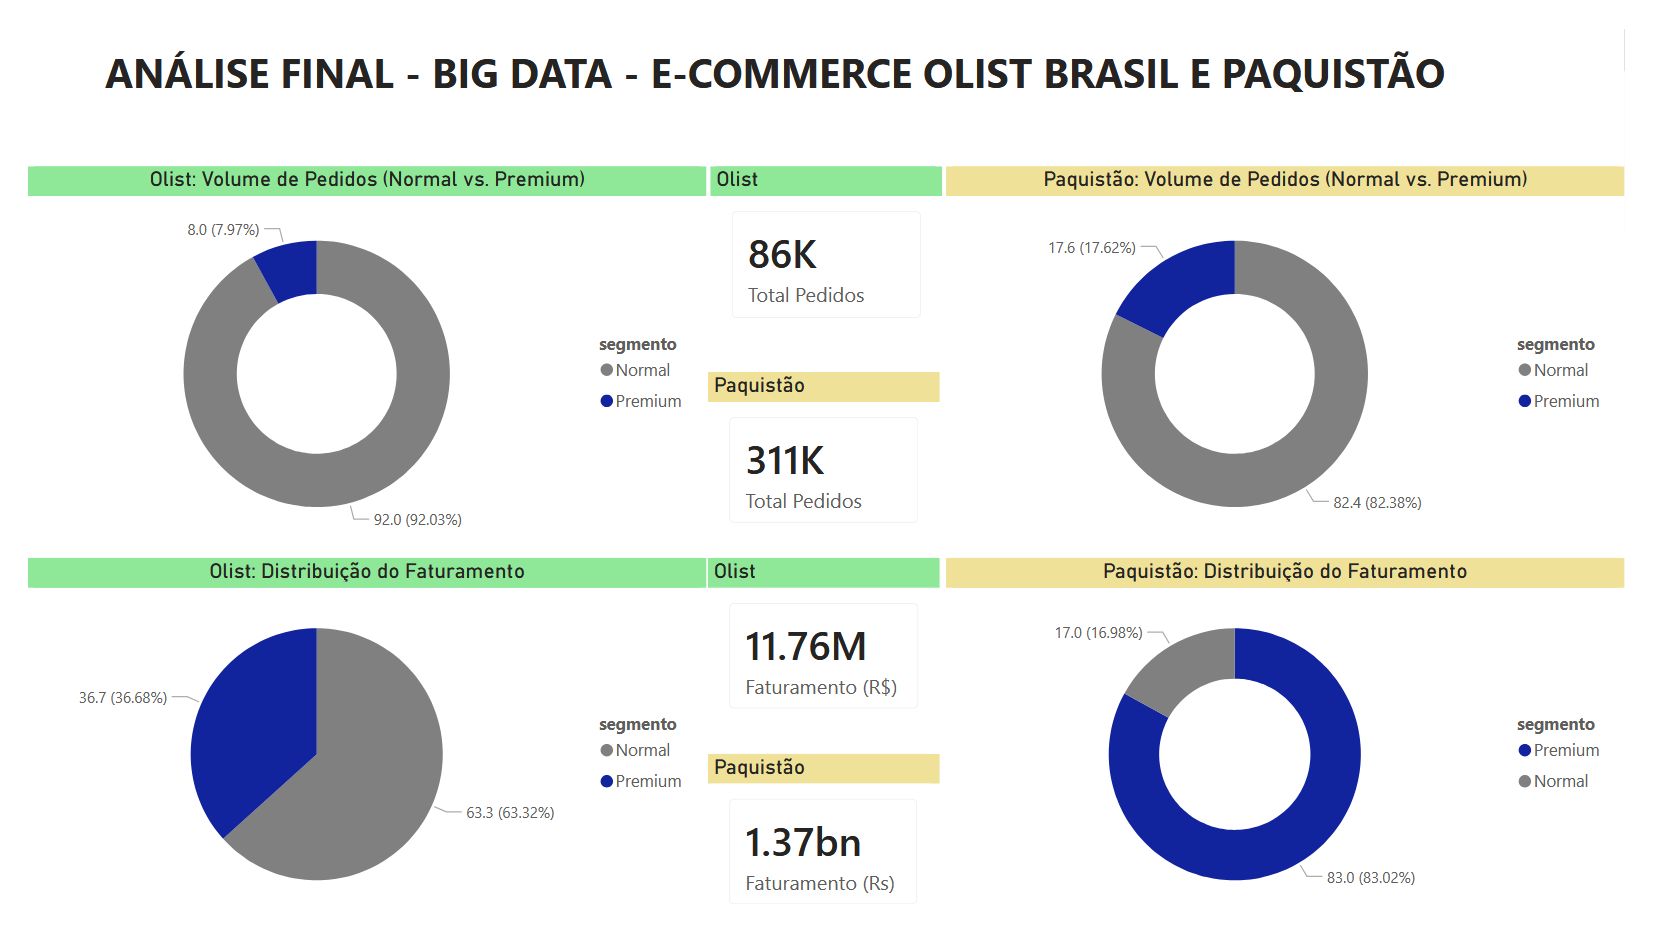

This screenshot's page, from the dashboard's own definition file:
{"tool":"powerbi","page":{"name":"VolumexFaturamento","canvas":[1280,720],"ordinal":0},"visuals":[{"type":"textbox","box":[51.4,7.1,1096,102.9],"z":0},{"type":"donutChart","title":"Olist: Volume de Pedidos (Normal vs. Premium)","fields":{"Y":["Sum(pb_resumo_olist_tema1.percentual_pedidos)"],"Category":["pb_resumo_olist_tema1.segmento"]},"box":[0,109.5,544.3,314.8],"z":1000},{"type":"pieChart","title":"Olist: Distribuição do Faturamento","fields":{"Category":["pb_resumo_olist_tema1.segmento"],"Y":["Sum(pb_resumo_olist_tema1.percentual_faturamento)"]},"box":[0,424.4,544,295.8],"z":2000},{"type":"donutChart","title":"Paquistão: Volume de Pedidos (Normal vs. Premium)","fields":{"Category":["pb_resumo_pakistan_tema1.segmento"],"Y":["Sum(pb_resumo_pakistan_tema1.percentual_pedidos)"]},"box":[735.7,109.5,544.3,314.8],"z":3000},{"type":"donutChart","title":"Paquistão: Distribuição do Faturamento","fields":{"Category":["pb_resumo_pakistan_tema1.segmento"],"Y":["Sum(pb_resumo_pakistan_tema1.percentual_faturamento)"]},"box":[735.7,424.4,544.3,295.8],"z":4000},{"type":"cardVisual","title":"Olist","fields":{"Data":["Sum(pb_resumo_olist_tema1.qtd_pedidos)"]},"box":[546.8,109.5,186.3,139.7],"z":5000},{"type":"cardVisual","title":"Paquistão","fields":{"Data":["Sum(pb_resumo_pakistan_tema1.qtd_pedidos)"]},"box":[545.1,275.1,186.3,138.9],"z":6000},{"type":"cardVisual","title":"Olist","fields":{"Data":["Sum(pb_resumo_olist_tema1.faturamento)"]},"box":[545.1,424.4,186.3,138.9],"z":7000},{"type":"cardVisual","title":"Paquistão","fields":{"Data":["Sum(pb_resumo_pakistan_tema1.faturamento)"]},"box":[545.1,581.3,185.4,138.9],"z":8000}]}

Visuals, with their boxes in screenshot pixels (x1, y1, x2, y2), scaled from the page's 1280x720 canvas onto the 1653x951 screenshot:
textbox: Rect(66, 9, 1482, 145)
"Olist: Volume de Pedidos (Normal vs. Premium)" donutChart: Rect(0, 145, 703, 560)
"Olist: Distribuição do Faturamento" pieChart: Rect(0, 561, 703, 950)
"Paquistão: Volume de Pedidos (Normal vs. Premium)" donutChart: Rect(950, 145, 1652, 560)
"Paquistão: Distribuição do Faturamento" donutChart: Rect(950, 561, 1652, 950)
"Olist" cardVisual: Rect(706, 145, 947, 329)
"Paquistão" cardVisual: Rect(704, 363, 945, 547)
"Olist" cardVisual: Rect(704, 561, 945, 744)
"Paquistão" cardVisual: Rect(704, 768, 943, 950)
